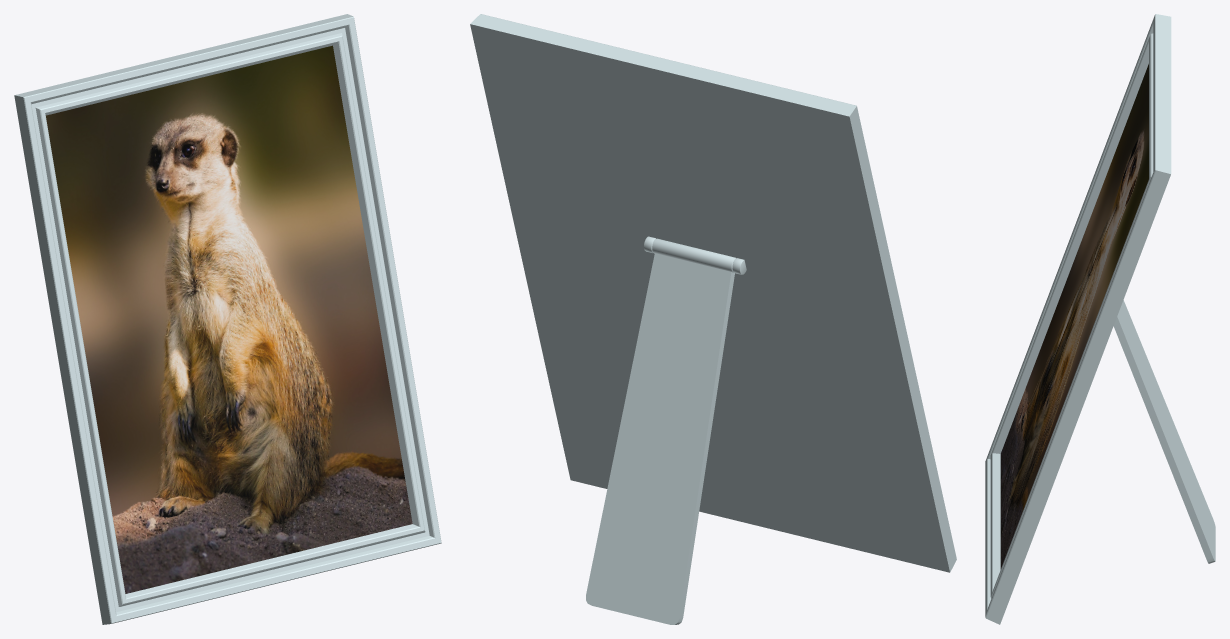
The model's file is aws_DeskPortraitA_01_visual.DAE.
3 renders of one model, left to right at view 1: azimuth 30°, elevation 25°; view 2: azimuth 150°, elevation 25°; view 3: azimuth 270°, elevation 25°, orthographic. The views are drawn at different scales.
Parts seen in each view (by area): view 1: aws_DeskPortraitA_01_visual; view 2: aws_DeskPortraitA_01_visual; view 3: aws_DeskPortraitA_01_visual.
Part boxes in pixels (x1,y1,x2,y2): aws_DeskPortraitA_01_visual: [14, 14, 441, 624]; aws_DeskPortraitA_01_visual: [470, 14, 956, 624]; aws_DeskPortraitA_01_visual: [985, 14, 1215, 624].
Bounding box in the file's own units: 16.8 × 10.38 × 22.58.
2 materials, 2 textured.
